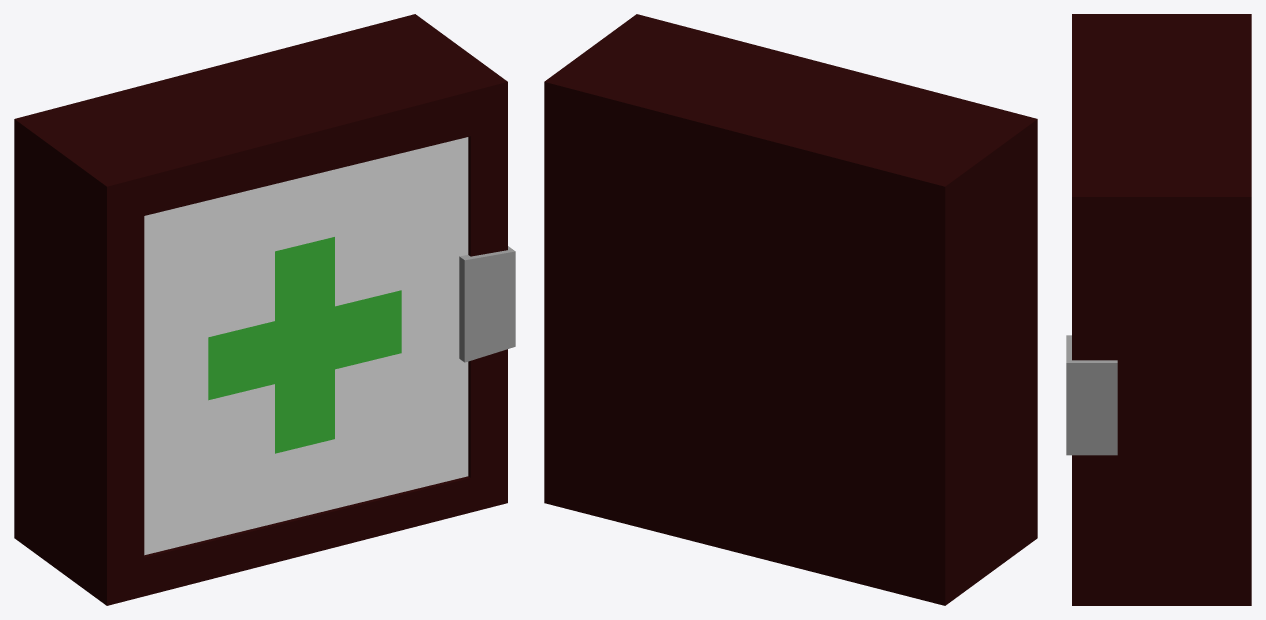
Rendered from 3D_Medical-Device1_v1.fbx.
3 renders of one model, left to right at view 1: azimuth 30°, elevation 25°; view 2: azimuth 150°, elevation 25°; view 3: azimuth 270°, elevation 25°, orthographic. The views are drawn at different scales.
Parts seen in each view (by area): view 1: Cube; view 2: Cube; view 3: Cube.
Part boxes in pixels (x1,y1,x2,y2): Cube: [14, 14, 515, 605]; Cube: [544, 14, 1037, 605]; Cube: [1066, 14, 1251, 605].
Size of the model in its own units: 58.41 by 58.64 by 23.83.
